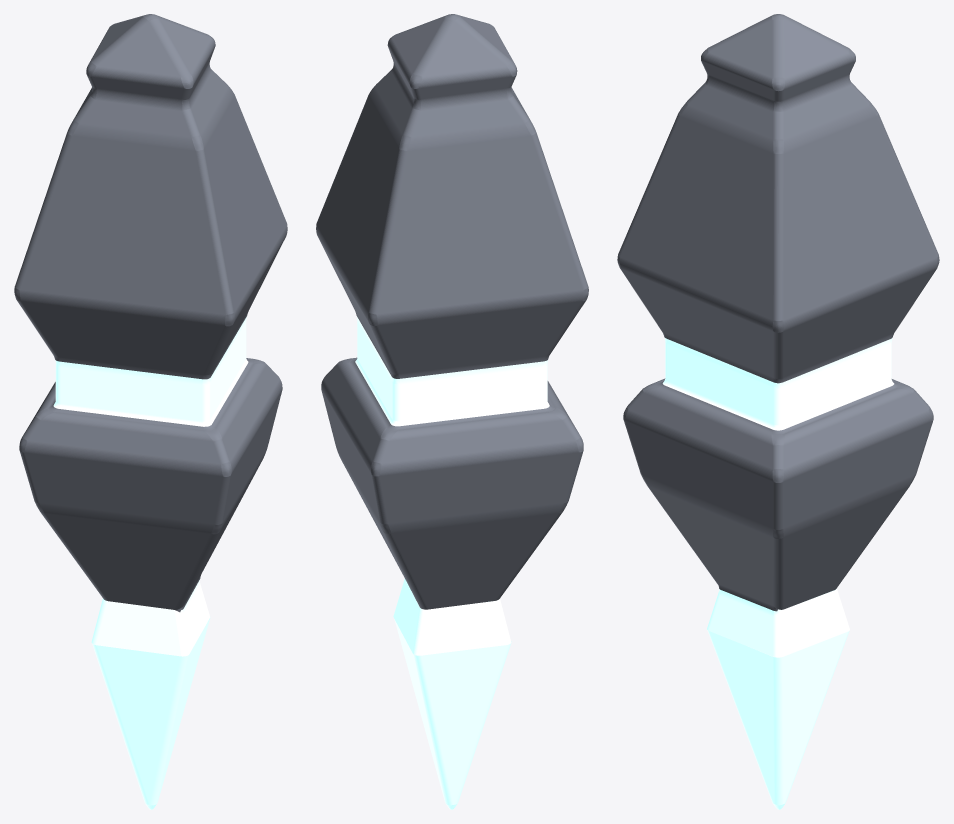
The model's file is pedestal_floating.fbx.
3 renders of one model, left to right at view 1: azimuth 30°, elevation 25°; view 2: azimuth 150°, elevation 25°; view 3: azimuth 270°, elevation 25°, orthographic.
Parts seen in each view (by area): view 1: pedestal_floating; view 2: pedestal_floating; view 3: pedestal_floating.
Boxes of the visible parts, x1=… form: pedestal_floating: x1=14, y1=14, x2=287, y2=809; pedestal_floating: x1=316, y1=14, x2=588, y2=809; pedestal_floating: x1=617, y1=14, x2=939, y2=809.
Size of the model in its own units: 66.11 by 185 by 68.01.
